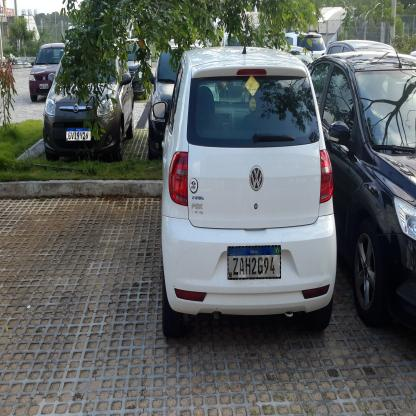PlacaM: (227, 245, 281, 280), (66, 128, 91, 142)
